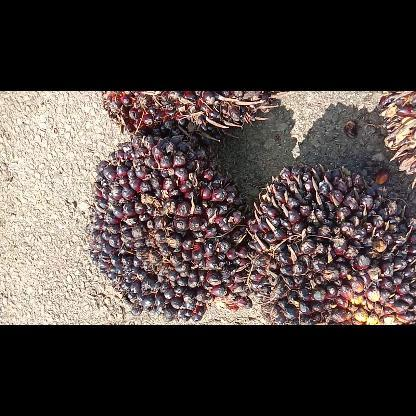TBS mentah: (86, 137, 250, 321), (246, 164, 416, 324), (101, 91, 277, 141), (378, 92, 414, 186)
